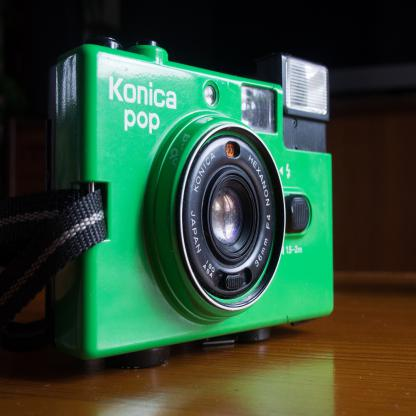Camera: (38, 39, 331, 365)
